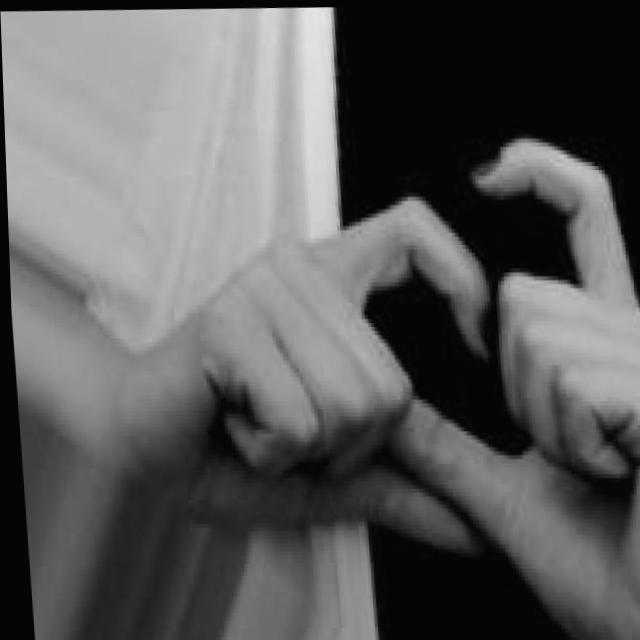G: (154, 116, 640, 640)
